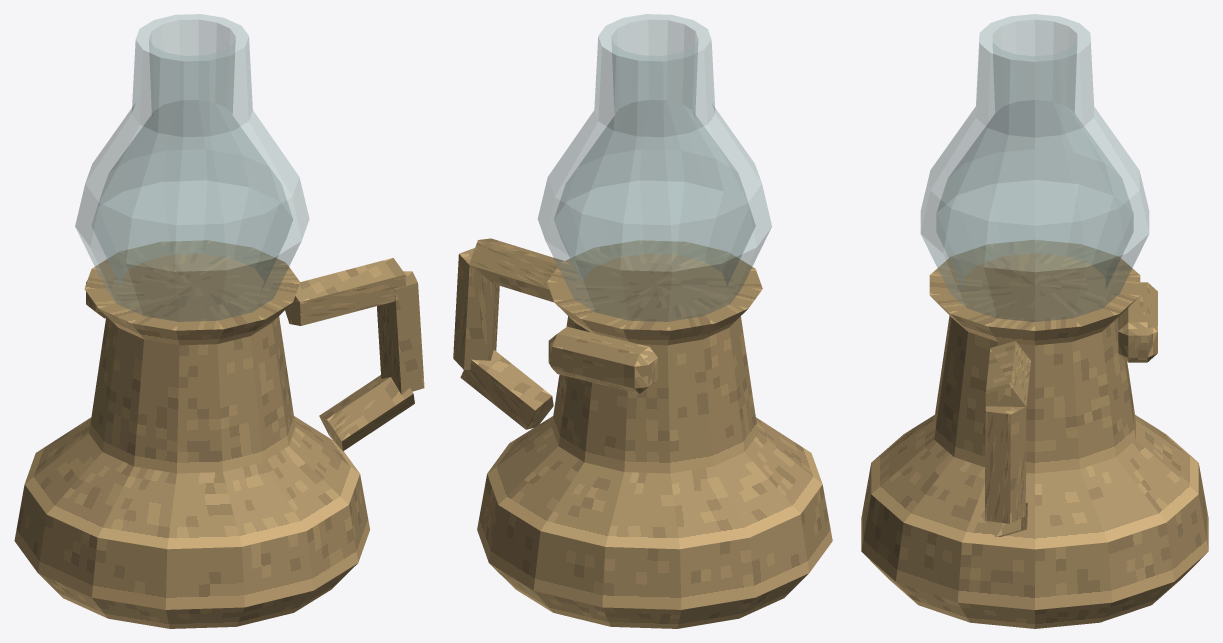
File: oxylamp.glb
The picture shows the model from 3 angles, left to right: view 1: azimuth 30°, elevation 25°; view 2: azimuth 150°, elevation 25°; view 3: azimuth 270°, elevation 25°; orthographic projection.
Visible parts, largest first — view 1: block_turned brass lamp base, block_shaped glass chimney, block_rounded brass handle 0, block_rounded brass handle 1, block_rounded brass handle 2; view 2: block_turned brass lamp base, block_shaped glass chimney, block_lamp connection collar, block_rounded brass handle 1, block_rounded brass handle 2, block_rounded brass handle 0; view 3: block_turned brass lamp base, block_shaped glass chimney, block_rounded brass handle 1, block_rounded brass handle 0, block_lamp connection collar, block_rounded brass handle 2.
Part boxes in pixels (x1,y1,x2,y2): block_turned brass lamp base: (14, 240, 369, 628); block_shaped glass chimney: (75, 14, 309, 321); block_rounded brass handle 0: (285, 257, 405, 325); block_rounded brass handle 1: (377, 271, 424, 394); block_rounded brass handle 2: (319, 375, 414, 451); block_turned brass lamp base: (477, 240, 832, 628); block_shaped glass chimney: (538, 14, 771, 321); block_lamp connection collar: (548, 326, 657, 393); block_rounded brass handle 1: (453, 248, 499, 369); block_rounded brass handle 2: (460, 350, 553, 429); block_rounded brass handle 0: (469, 238, 563, 302); block_turned brass lamp base: (861, 240, 1208, 628); block_shaped glass chimney: (920, 14, 1149, 321); block_rounded brass handle 1: (985, 406, 1026, 523); block_rounded brass handle 0: (985, 341, 1030, 407); block_lamp connection collar: (1118, 282, 1157, 362); block_rounded brass handle 2: (980, 502, 1027, 537).
Bounding box in the file's own units: 0.11 × 0.1508 × 0.0899.
Materials: 3 (3 with a texture image).
